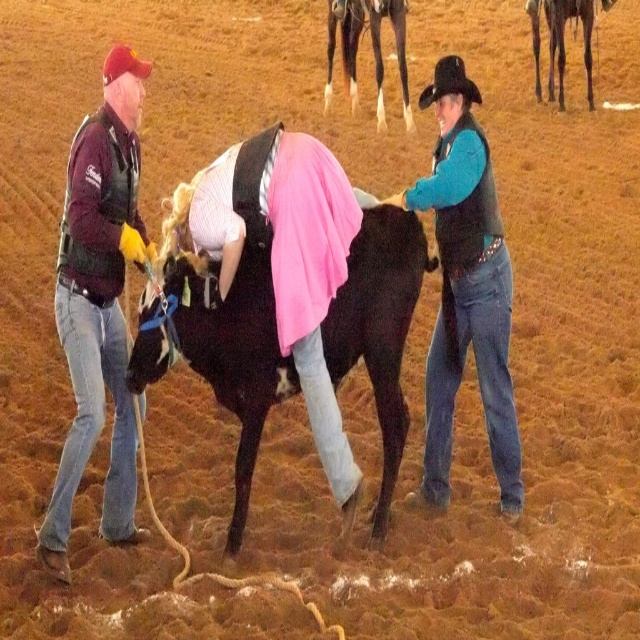Cattle: (124, 204, 464, 575), (324, 0, 417, 135), (530, 0, 594, 111)
